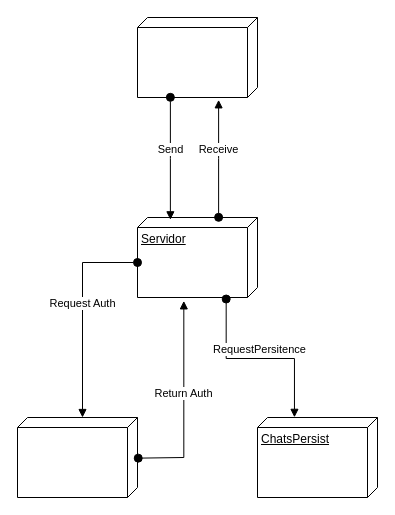
Image size: 395x515. Some labels were removed from this diagram. Each missing label, with the box of its shape:
AuthService: (16, 416, 138, 498)
Cliente: (136, 16, 258, 98)
